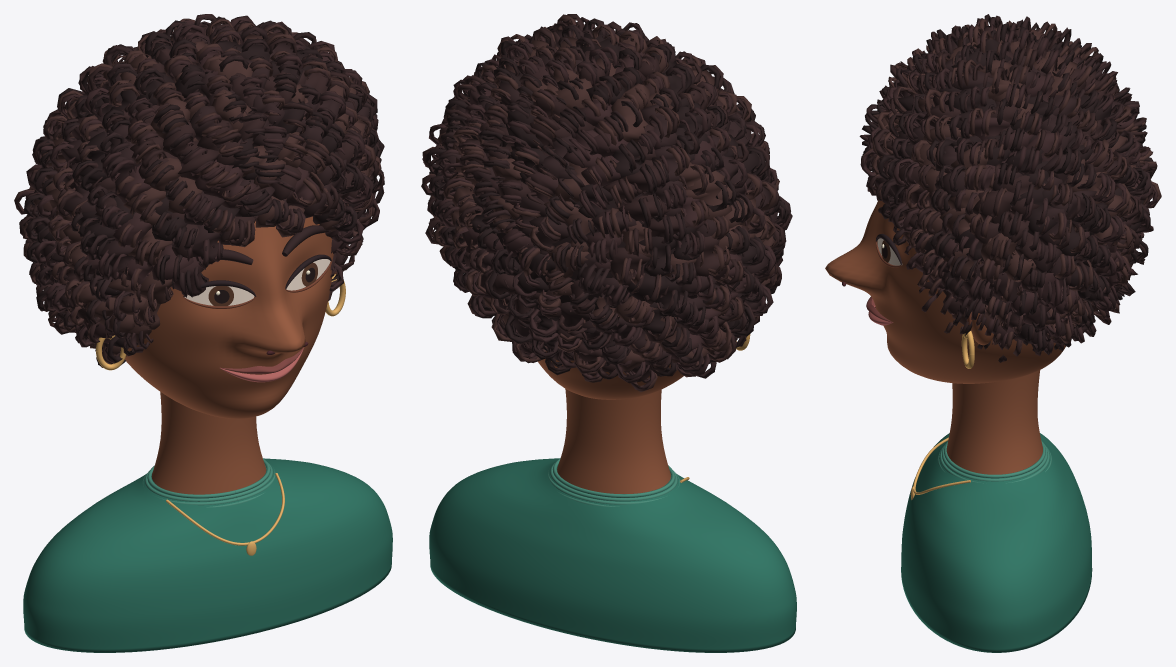
File: lia.glb
3 views of the same model, side by side, from view 1: azimuth 30°, elevation 25°; view 2: azimuth 150°, elevation 25°; view 3: azimuth 270°, elevation 25° (orthographic). The views are drawn at different scales.
Visible parts, largest first — view 1: Cachos, Blusa, Rosto, Pescoço, Gola, Gola.001, Corrente, Lábio inferior, Olho; view 2: Cachos, Blusa, Pescoço, Rosto, Base do cabelo, Gola, Gola.001; view 3: Cachos, Blusa, Rosto, Pescoço, Gola, Gola.001.
Boxes of the visible parts, box(x1,y1,x2,y2) form: Cachos: box(14, 14, 384, 367); Blusa: box(23, 458, 392, 652); Rosto: box(125, 216, 333, 418); Pescoço: box(151, 392, 266, 494); Gola: box(147, 458, 270, 498); Gola.001: box(144, 462, 273, 501); Corrente: box(166, 473, 284, 545); Lábio inferior: box(220, 348, 303, 382); Olho: box(184, 286, 254, 305); Cachos: box(421, 14, 792, 392); Blusa: box(429, 458, 796, 652); Pescoço: box(557, 389, 670, 493); Rosto: box(537, 351, 683, 399); Base do cabelo: box(489, 183, 675, 310); Gola: box(552, 458, 675, 497); Gola.001: box(550, 462, 677, 501); Cachos: box(859, 14, 1161, 362); Blusa: box(901, 433, 1092, 652); Rosto: box(825, 200, 1065, 383); Pescoço: box(946, 370, 1042, 474); Gola: box(944, 440, 1045, 478); Gola.001: box(942, 442, 1047, 481).
Size of the model in its own units: 2.32 by 3.52 by 1.97.
